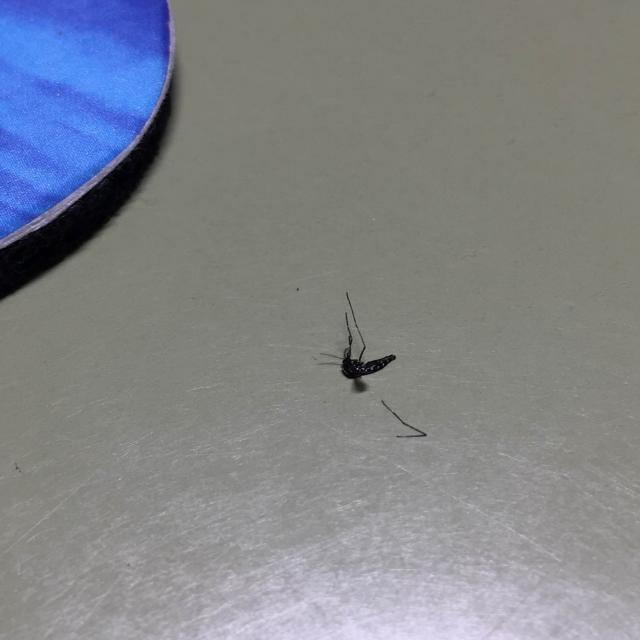albopictus: (305, 291, 407, 384)
